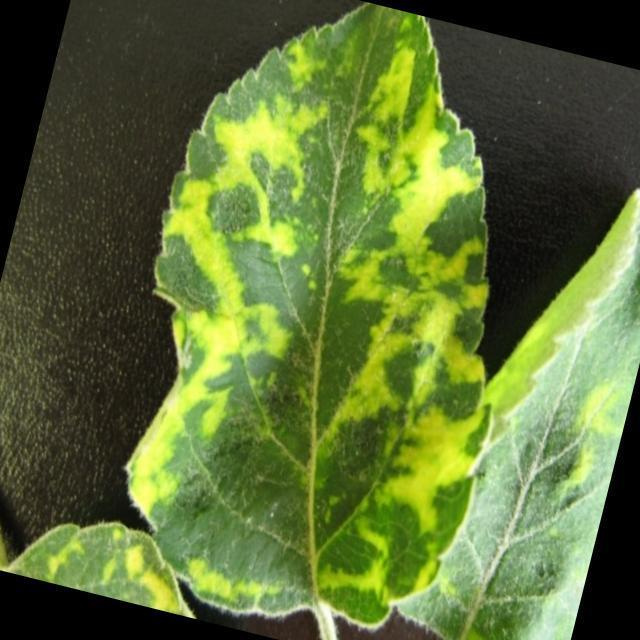Mosaic Virus: (90, 0, 563, 634), (0, 496, 198, 614)
